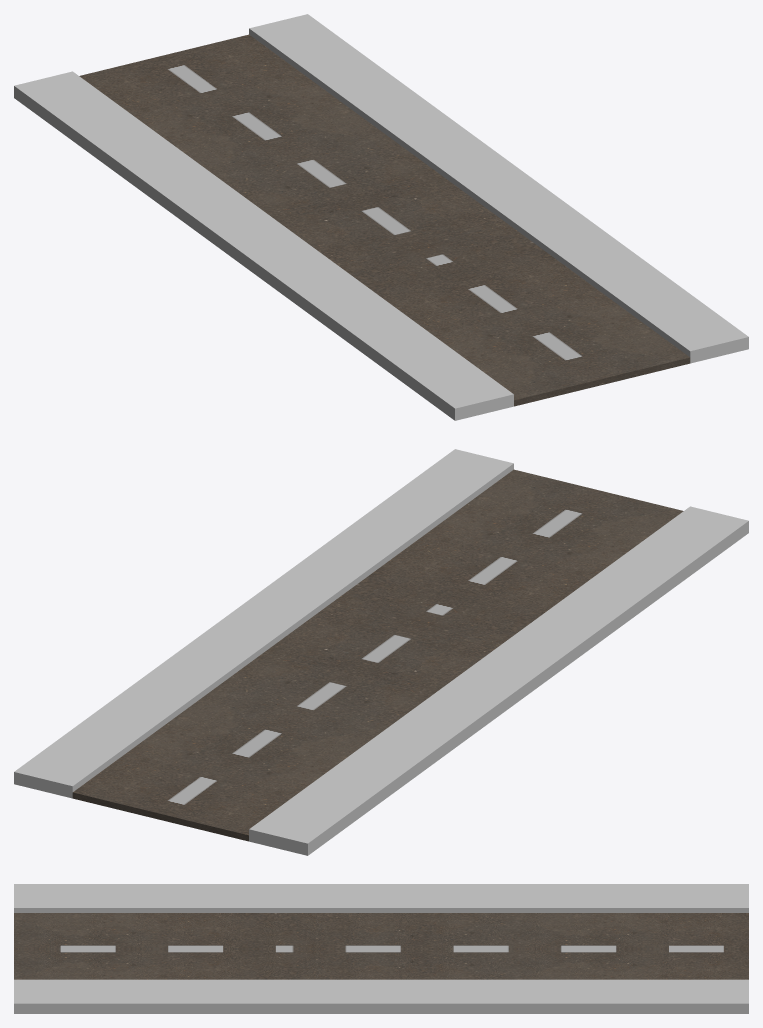
Rendered from Straight.obj.
3 renders of one model, top to bottom at view 1: azimuth 30°, elevation 25°; view 2: azimuth 150°, elevation 25°; view 3: azimuth 270°, elevation 25°, orthographic. The views are drawn at different scales.
Visible parts, largest first — view 1: Straight; view 2: Straight; view 3: Straight.
Part boxes in pixels (left/top/right/bottom): Straight: left=14, top=14, right=748, bottom=420; Straight: left=14, top=449, right=748, bottom=855; Straight: left=14, top=884, right=748, bottom=1013.
Size of the model in its own units: 10 by 0.4 by 26.
